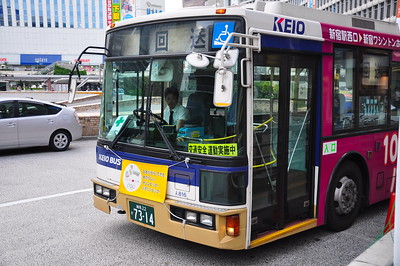bus: (90, 4, 400, 251)
car: (1, 99, 84, 152)
